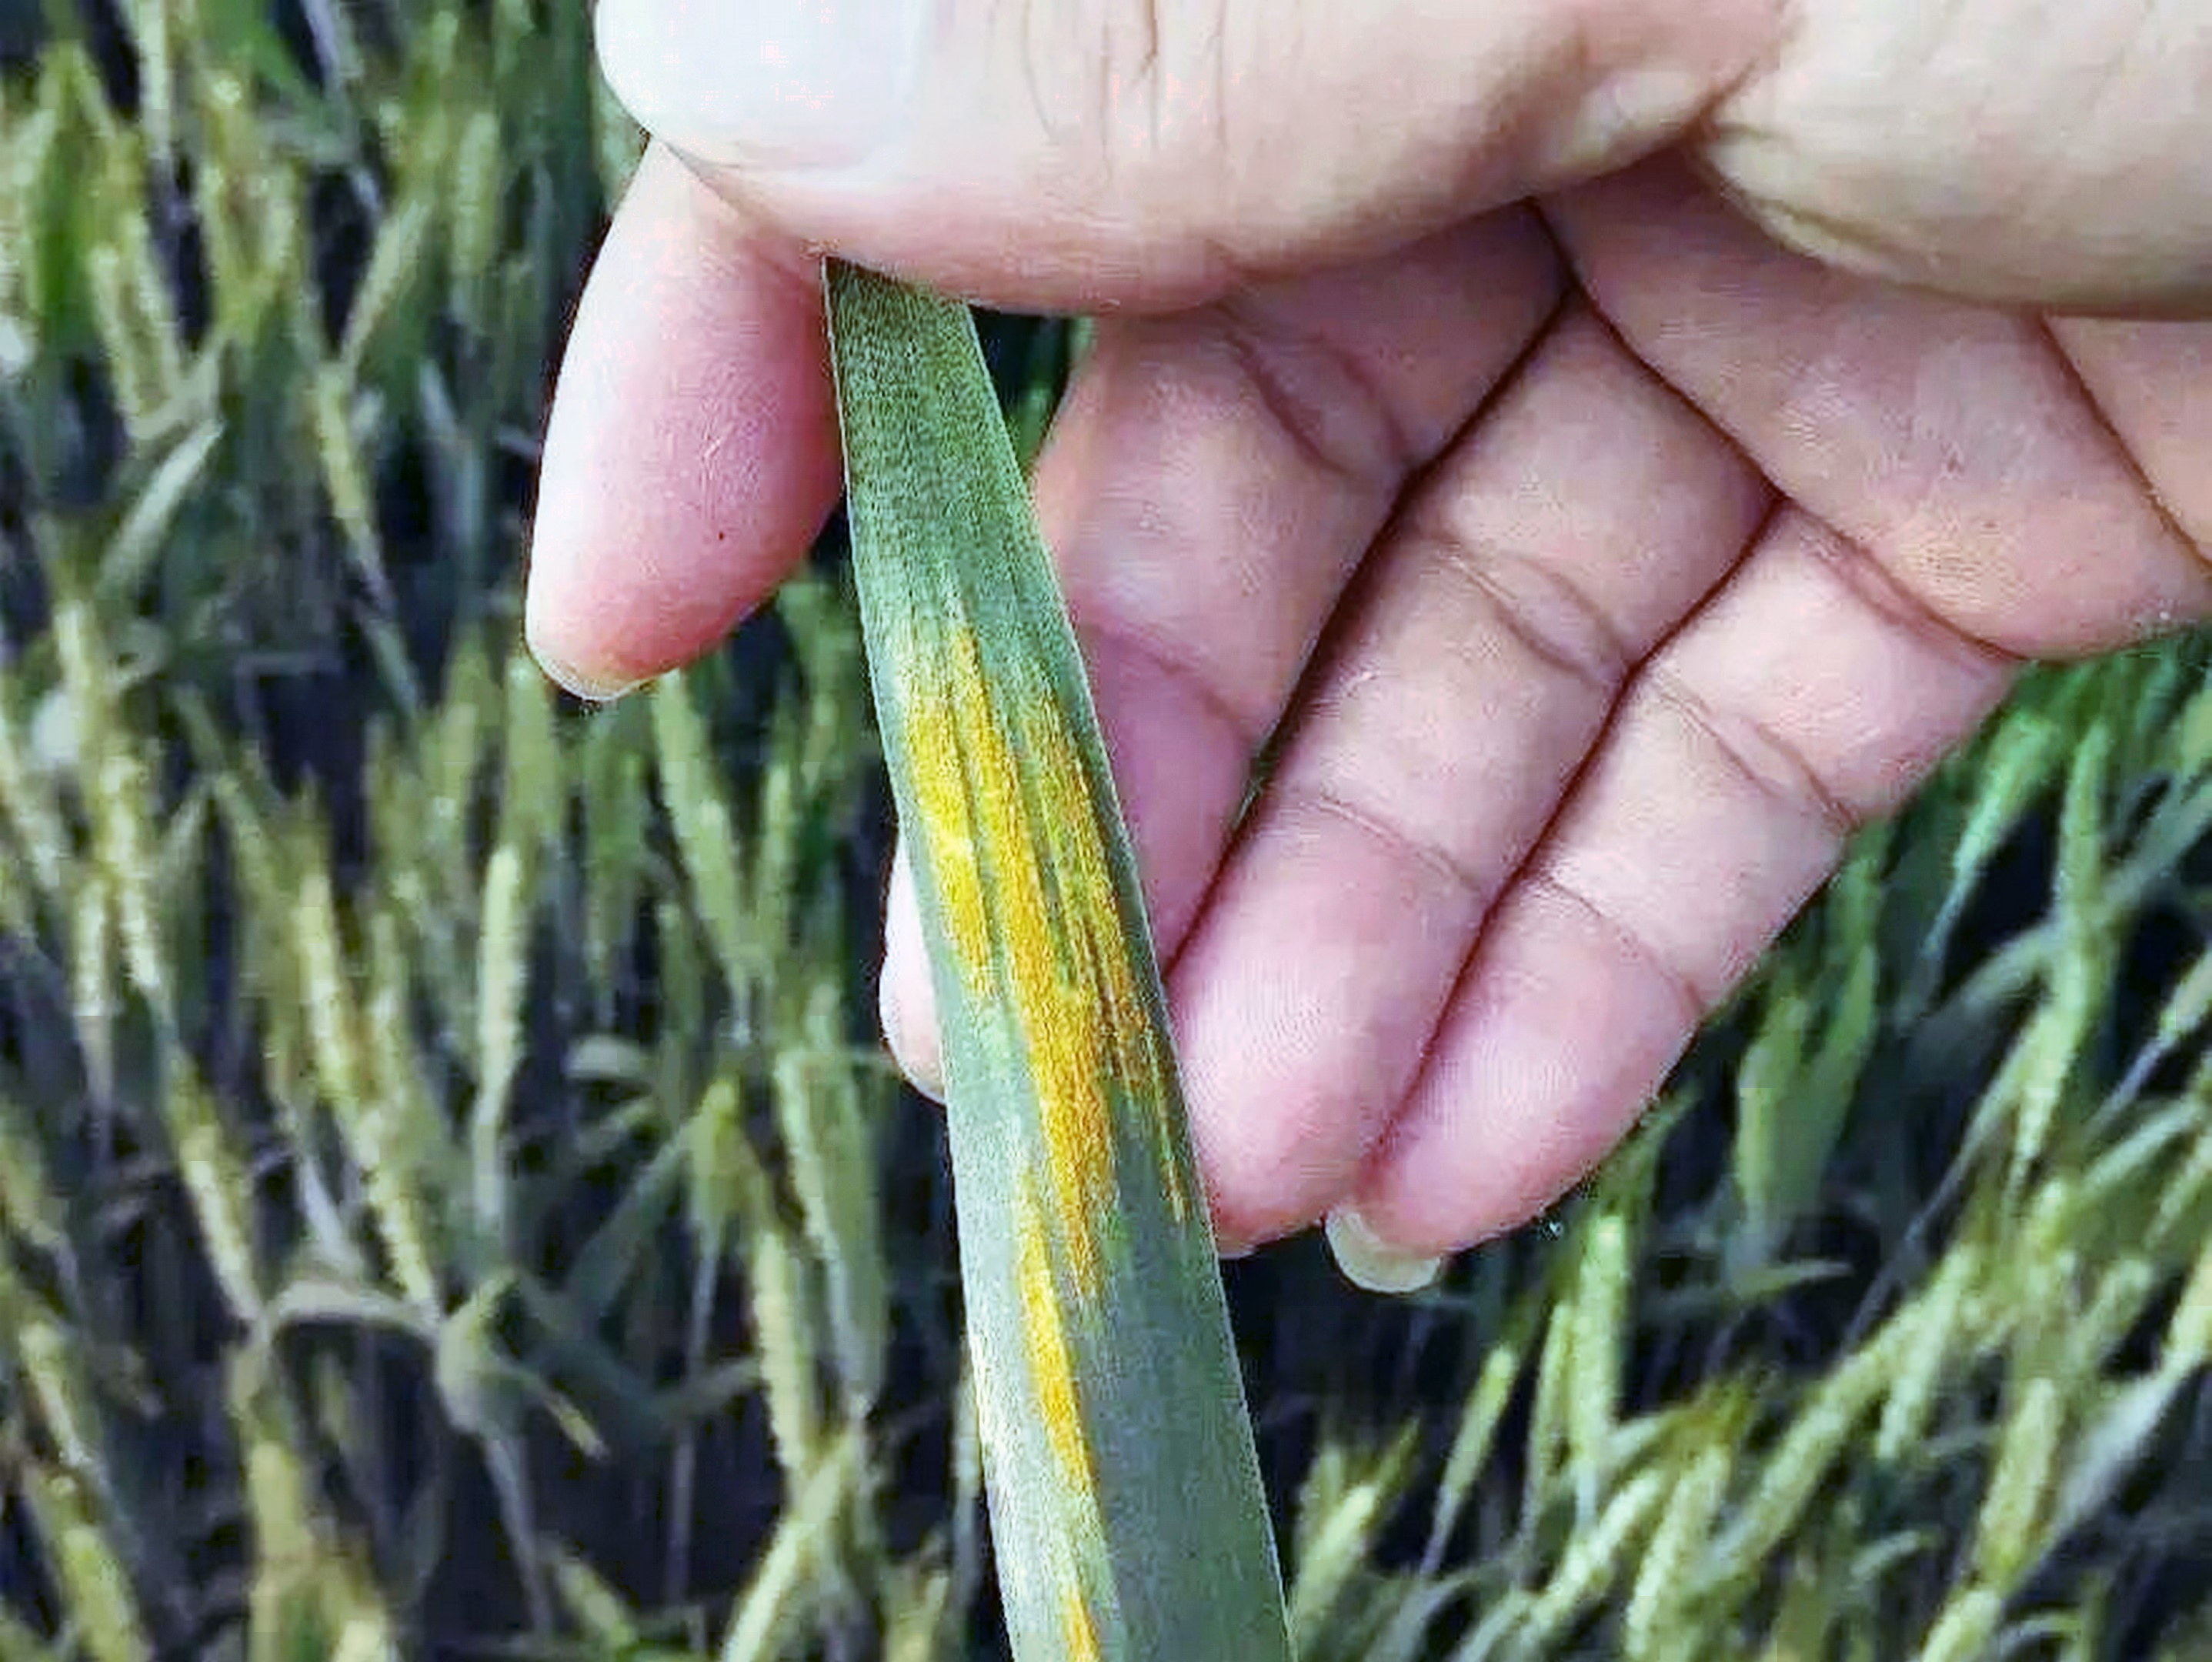Leaf Rust: (859, 618, 1217, 1426)
